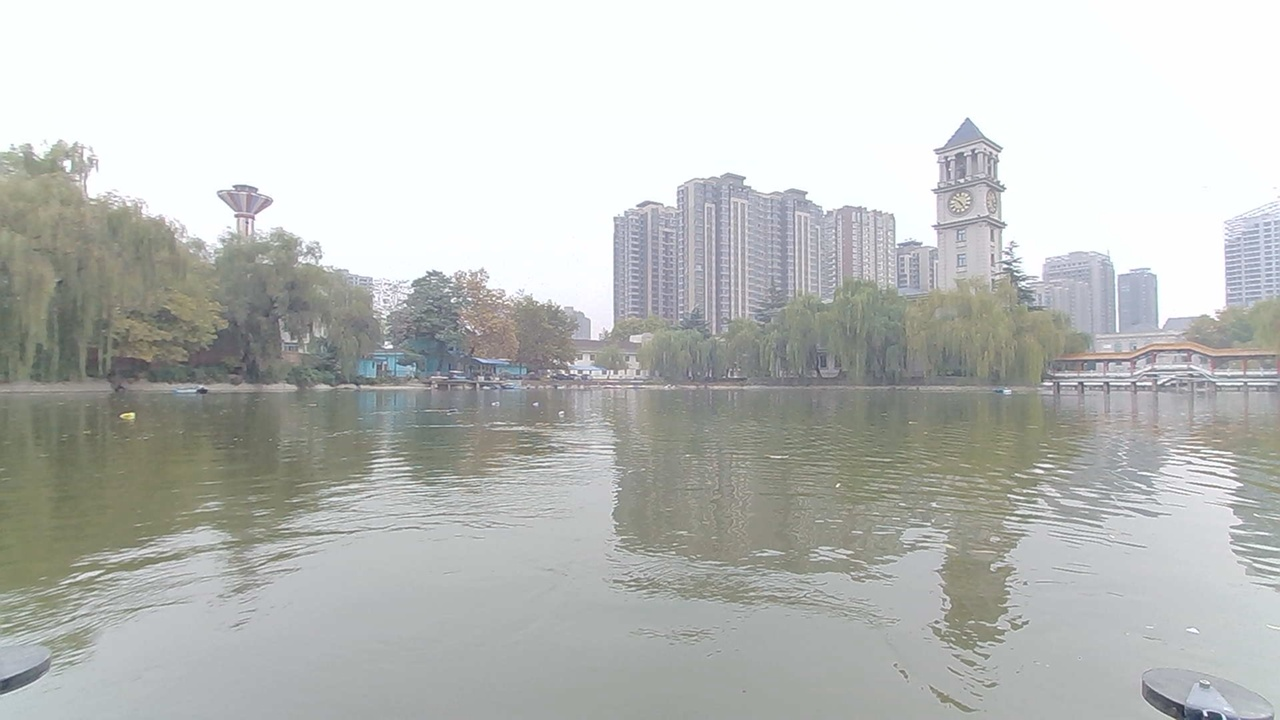bottle: (436, 398, 470, 427), (110, 404, 143, 428), (550, 399, 576, 426), (484, 390, 510, 416), (522, 394, 548, 413)
